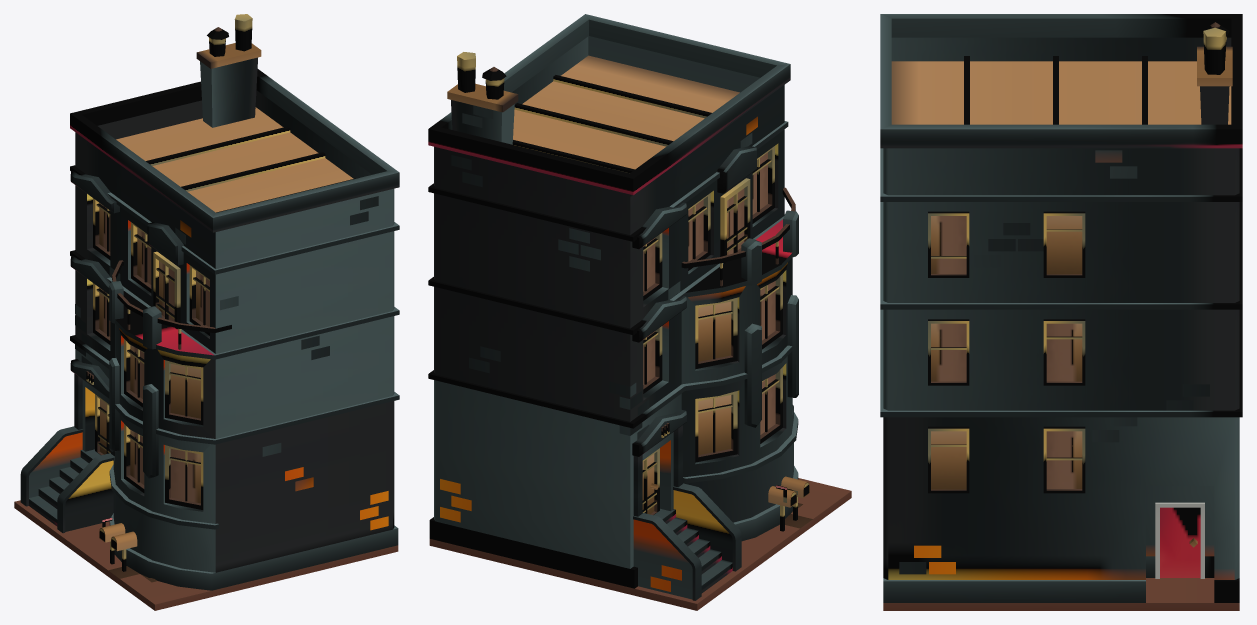
The model's file is Building_4C.fbx.
The picture shows the model from 3 angles, left to right: view 1: azimuth 30°, elevation 25°; view 2: azimuth 150°, elevation 25°; view 3: azimuth 270°, elevation 25°; orthographic projection. The views are drawn at different scales.
Parts seen in each view (by area): view 1: Building_4C, Window_Lights_4C; view 2: Building_4C, Window_Lights_4C; view 3: Building_4C, Window_Lights_4C.
Boxes of the visible parts, box(x1,y1,x2,y2) form: Building_4C: box(14, 14, 399, 610); Window_Lights_4C: box(100, 364, 200, 454); Building_4C: box(428, 14, 851, 610); Window_Lights_4C: box(642, 301, 731, 514); Building_4C: box(880, 14, 1242, 610); Window_Lights_4C: box(931, 216, 1082, 489).
Bounding box in the file's own units: 12.05 × 20.93 × 12.2.
